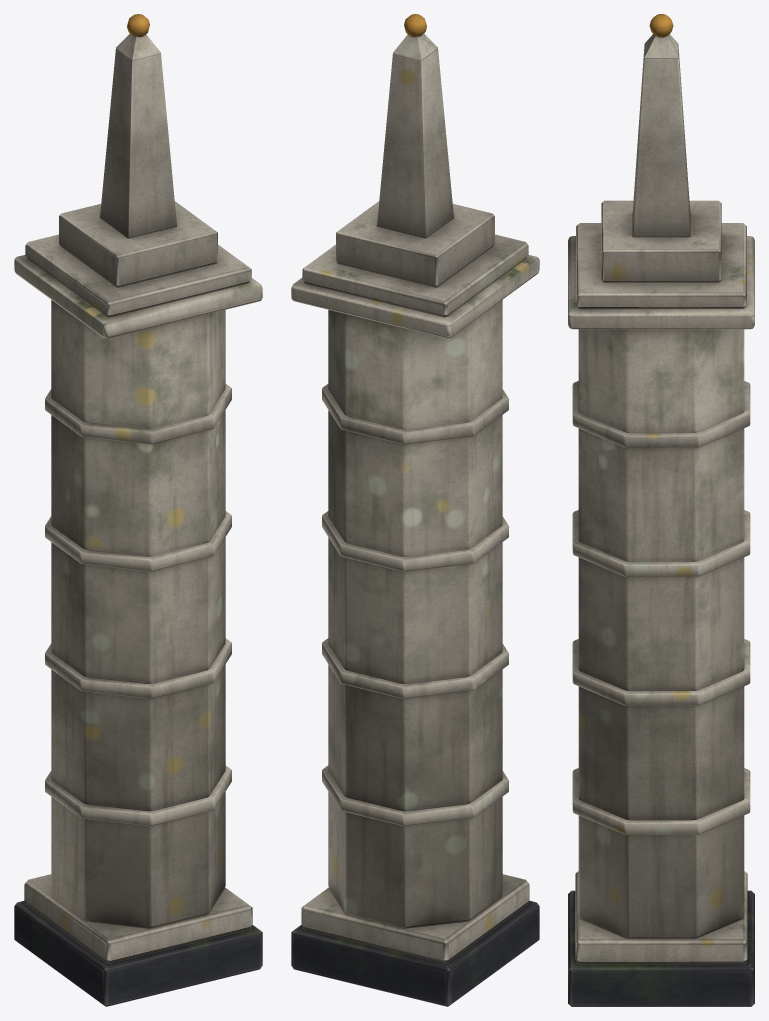
File: RailingCorner.fbx
3 renders of one model, left to right at view 1: azimuth 30°, elevation 25°; view 2: azimuth 150°, elevation 25°; view 3: azimuth 270°, elevation 25°, orthographic.
Parts seen in each view (by area): view 1: RailingCorner; view 2: RailingCorner; view 3: RailingCorner.
Part boxes in pixels (box(x1,y1,x2,y2)): RailingCorner: box(14, 14, 262, 1006); RailingCorner: box(291, 14, 539, 1006); RailingCorner: box(568, 14, 754, 1006).
Bounding box in the file's own units: 210 × 1183 × 210.
